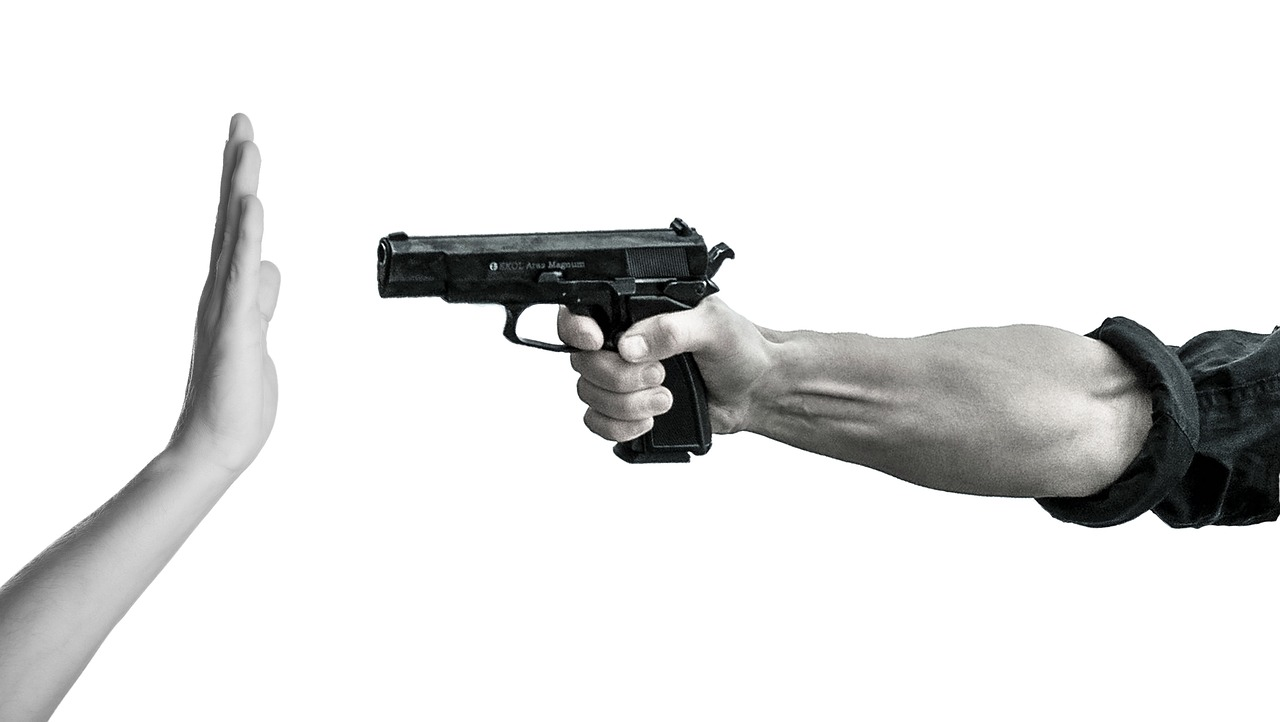gun: (361, 206, 744, 486)
